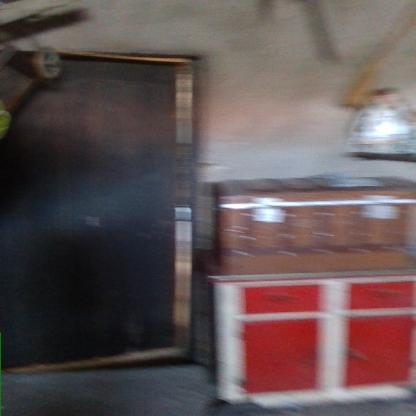semi: (3, 31, 228, 390)
